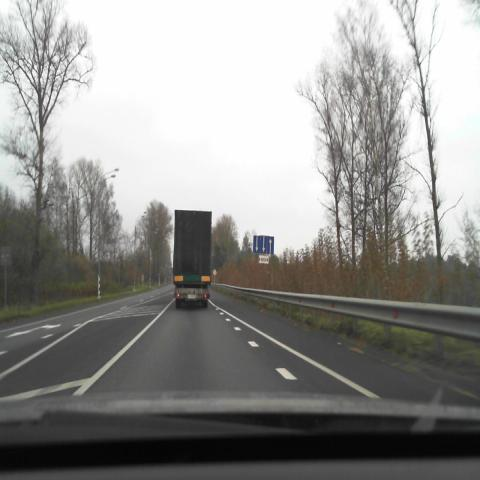5_15_7: (253, 235, 274, 255)
